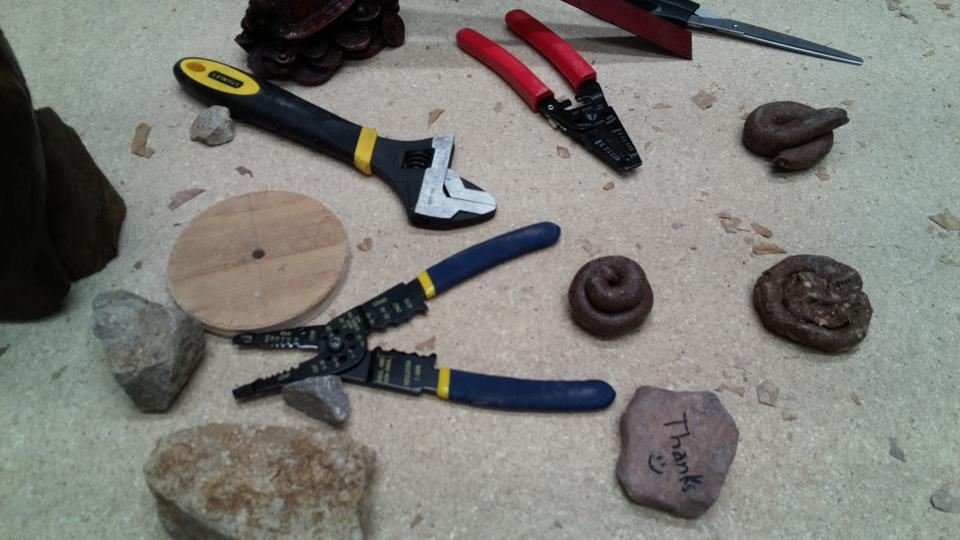poop: (748, 251, 877, 357), (562, 252, 658, 345), (738, 99, 853, 174)
